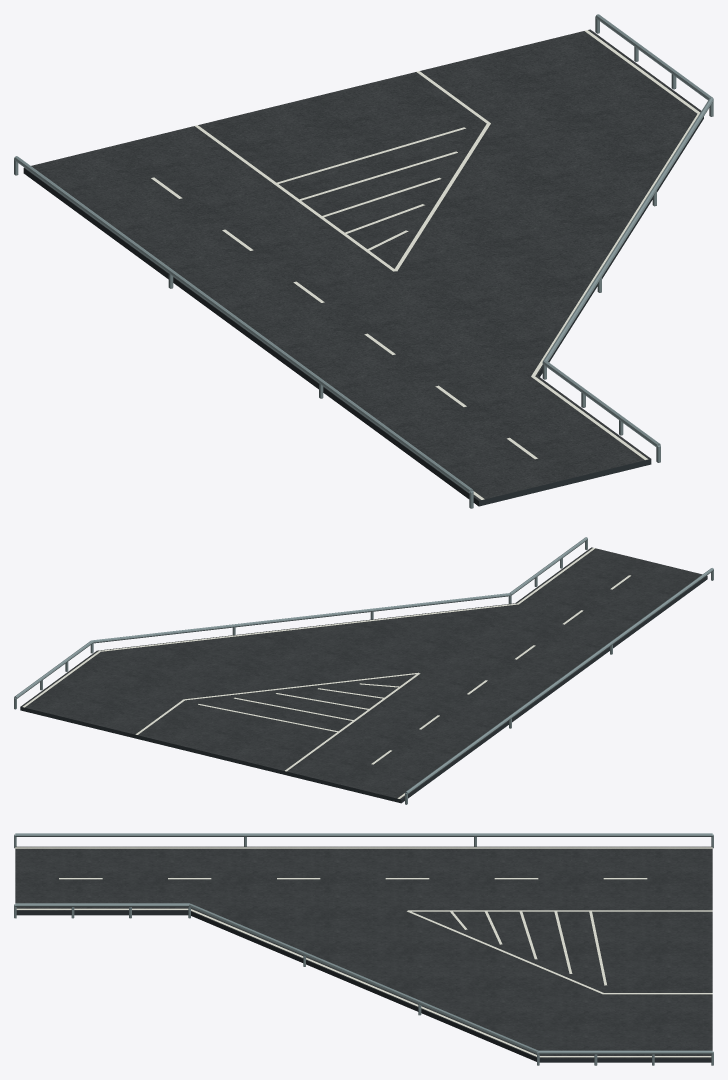
3 renders of one model, top to bottom at view 1: azimuth 30°, elevation 25°; view 2: azimuth 150°, elevation 25°; view 3: azimuth 270°, elevation 25°, orthographic. The views are drawn at different scales.
Visible parts, largest first — view 1: Road Deck, Gore Pavement, Safety Barriers, Road Markings, Barrier Posts; view 2: Road Deck, Gore Pavement, Safety Barriers, Road Markings, Barrier Posts; view 3: Road Deck, Gore Pavement, Safety Barriers, Road Markings, Barrier Posts.
Part boxes in pixels (box(x1,y1,x2,y2)): Road Deck: box(23, 29, 703, 506); Gore Pavement: box(198, 72, 486, 268); Safety Barriers: box(14, 14, 713, 493); Road Markings: box(151, 30, 700, 499); Barrier Posts: box(14, 16, 713, 508); Road Deck: box(20, 547, 707, 803); Gore Pavement: box(136, 674, 415, 774); Safety Barriers: box(14, 537, 713, 793); Road Markings: box(23, 547, 630, 798); Barrier Posts: box(14, 540, 713, 804); Road Deck: box(15, 846, 712, 1062); Gore Pavement: box(412, 911, 712, 992); Safety Barriers: box(15, 833, 712, 1054); Road Markings: box(15, 847, 712, 1057); Barrier Posts: box(14, 834, 713, 1065).
Size of the model in its own units: 23.78 by 0.74 by 32.13.
4 materials, 1 textured.
